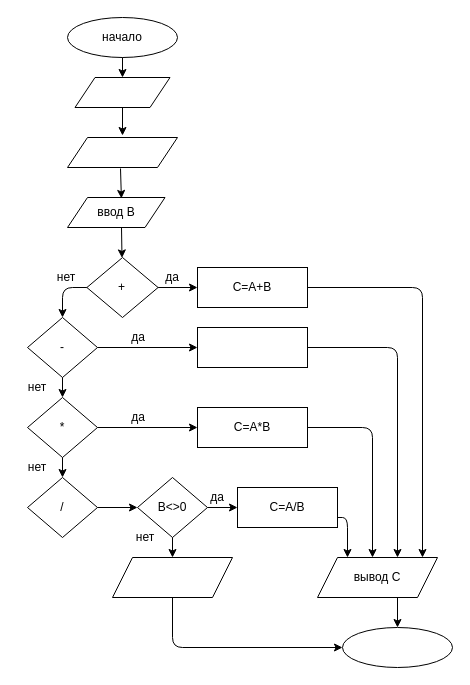
This 470x685 diagram has some shape labels left out. The centre of each missing label's shape, as x and y in pixels:
"C=A-B" belongs at (252,347).
"ввод A" belongs at (122,92).
"ввод действия" belongs at (122,152).
"конец" belongs at (397,647).
"на 0 / нельзя" belongs at (172,577).
